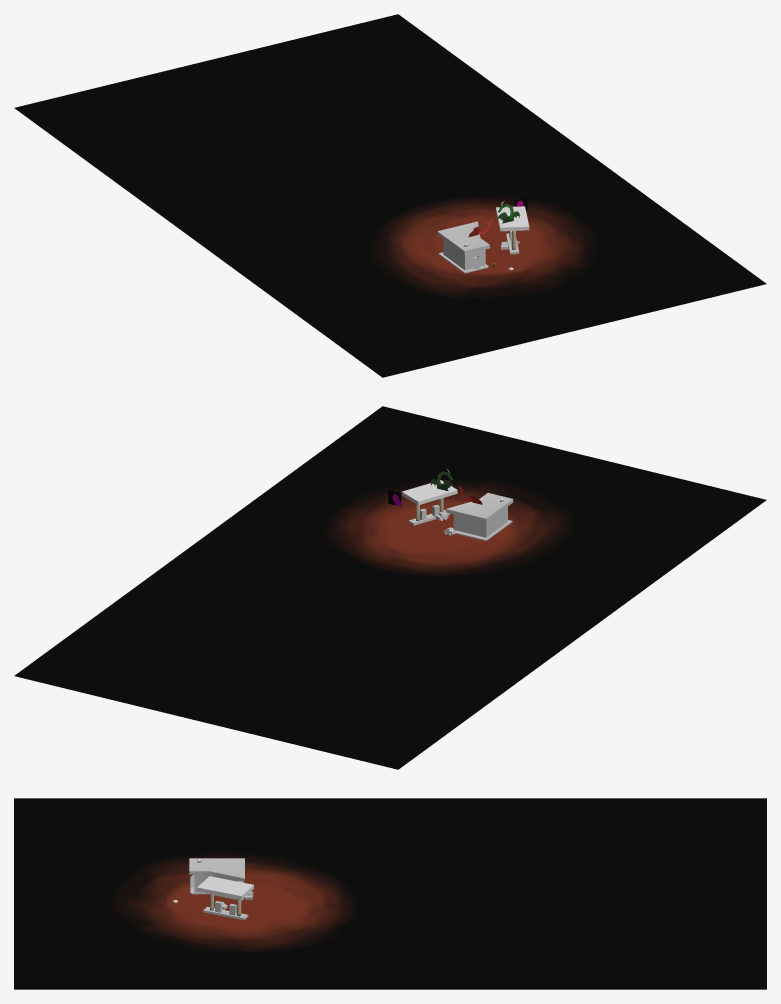
The picture shows the model from 3 angles, top to bottom: view 1: azimuth 30°, elevation 25°; view 2: azimuth 150°, elevation 25°; view 3: azimuth 270°, elevation 25°; orthographic projection. The views are drawn at different scales.
Visible parts, largest first — view 1: floor_near.002, building.002; view 2: floor_near.002, building.002, carport_roof.001; view 3: floor_near.002, building.002, carport_roof.001, carport_base.002.
Boxes of the visible parts, x1,y1,x2,y2 form: floor_near.002: [14, 14, 766, 377]; building.002: [437, 221, 489, 273]; floor_near.002: [14, 406, 766, 769]; building.002: [445, 493, 513, 540]; carport_roof.001: [401, 480, 457, 505]; floor_near.002: [14, 798, 766, 989]; building.002: [189, 858, 244, 900]; carport_roof.001: [197, 876, 253, 899]; carport_base.002: [203, 901, 248, 920].
Size of what is drawn, in the model's own units: 21949 by 3080 by 36469.
